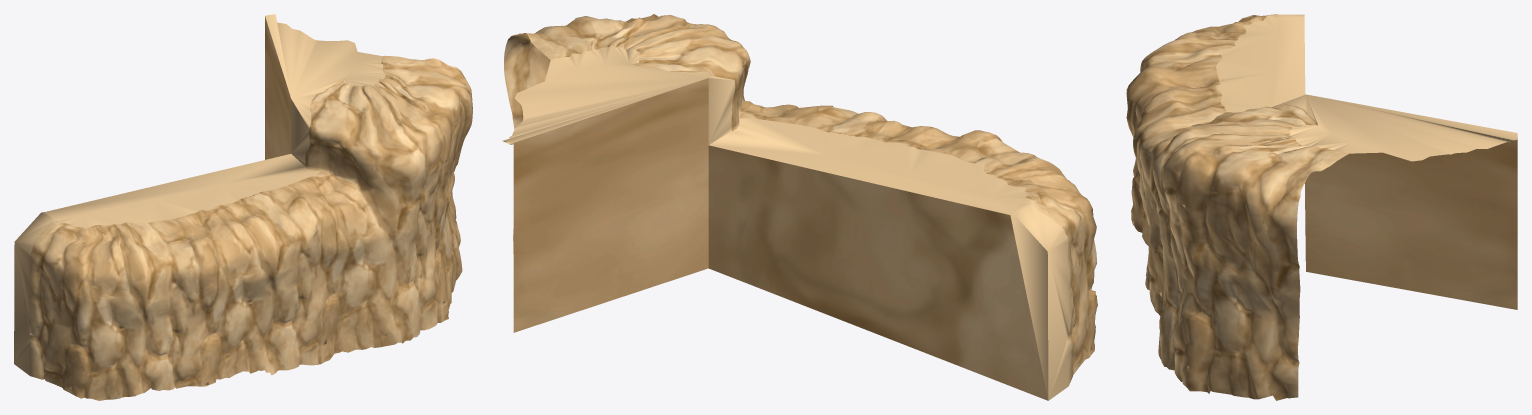
The model's file is SM_ENV_KNFRST_Wall_Ag.FBX.
The picture shows the model from 3 angles, left to right: view 1: azimuth 30°, elevation 25°; view 2: azimuth 150°, elevation 25°; view 3: azimuth 270°, elevation 25°; orthographic projection. The views are drawn at different scales.
Parts seen in each view (by area): view 1: SM_ENV_KNFRST_Wall_Ag; view 2: SM_ENV_KNFRST_Wall_Ag; view 3: SM_ENV_KNFRST_Wall_Ag.
Part boxes in pixels (bbox=[...]): SM_ENV_KNFRST_Wall_Ag: bbox=[14, 14, 472, 400]; SM_ENV_KNFRST_Wall_Ag: bbox=[502, 14, 1097, 400]; SM_ENV_KNFRST_Wall_Ag: bbox=[1126, 14, 1517, 400].
Bounding box in the file's own units: 7478 × 3376 × 4937.
